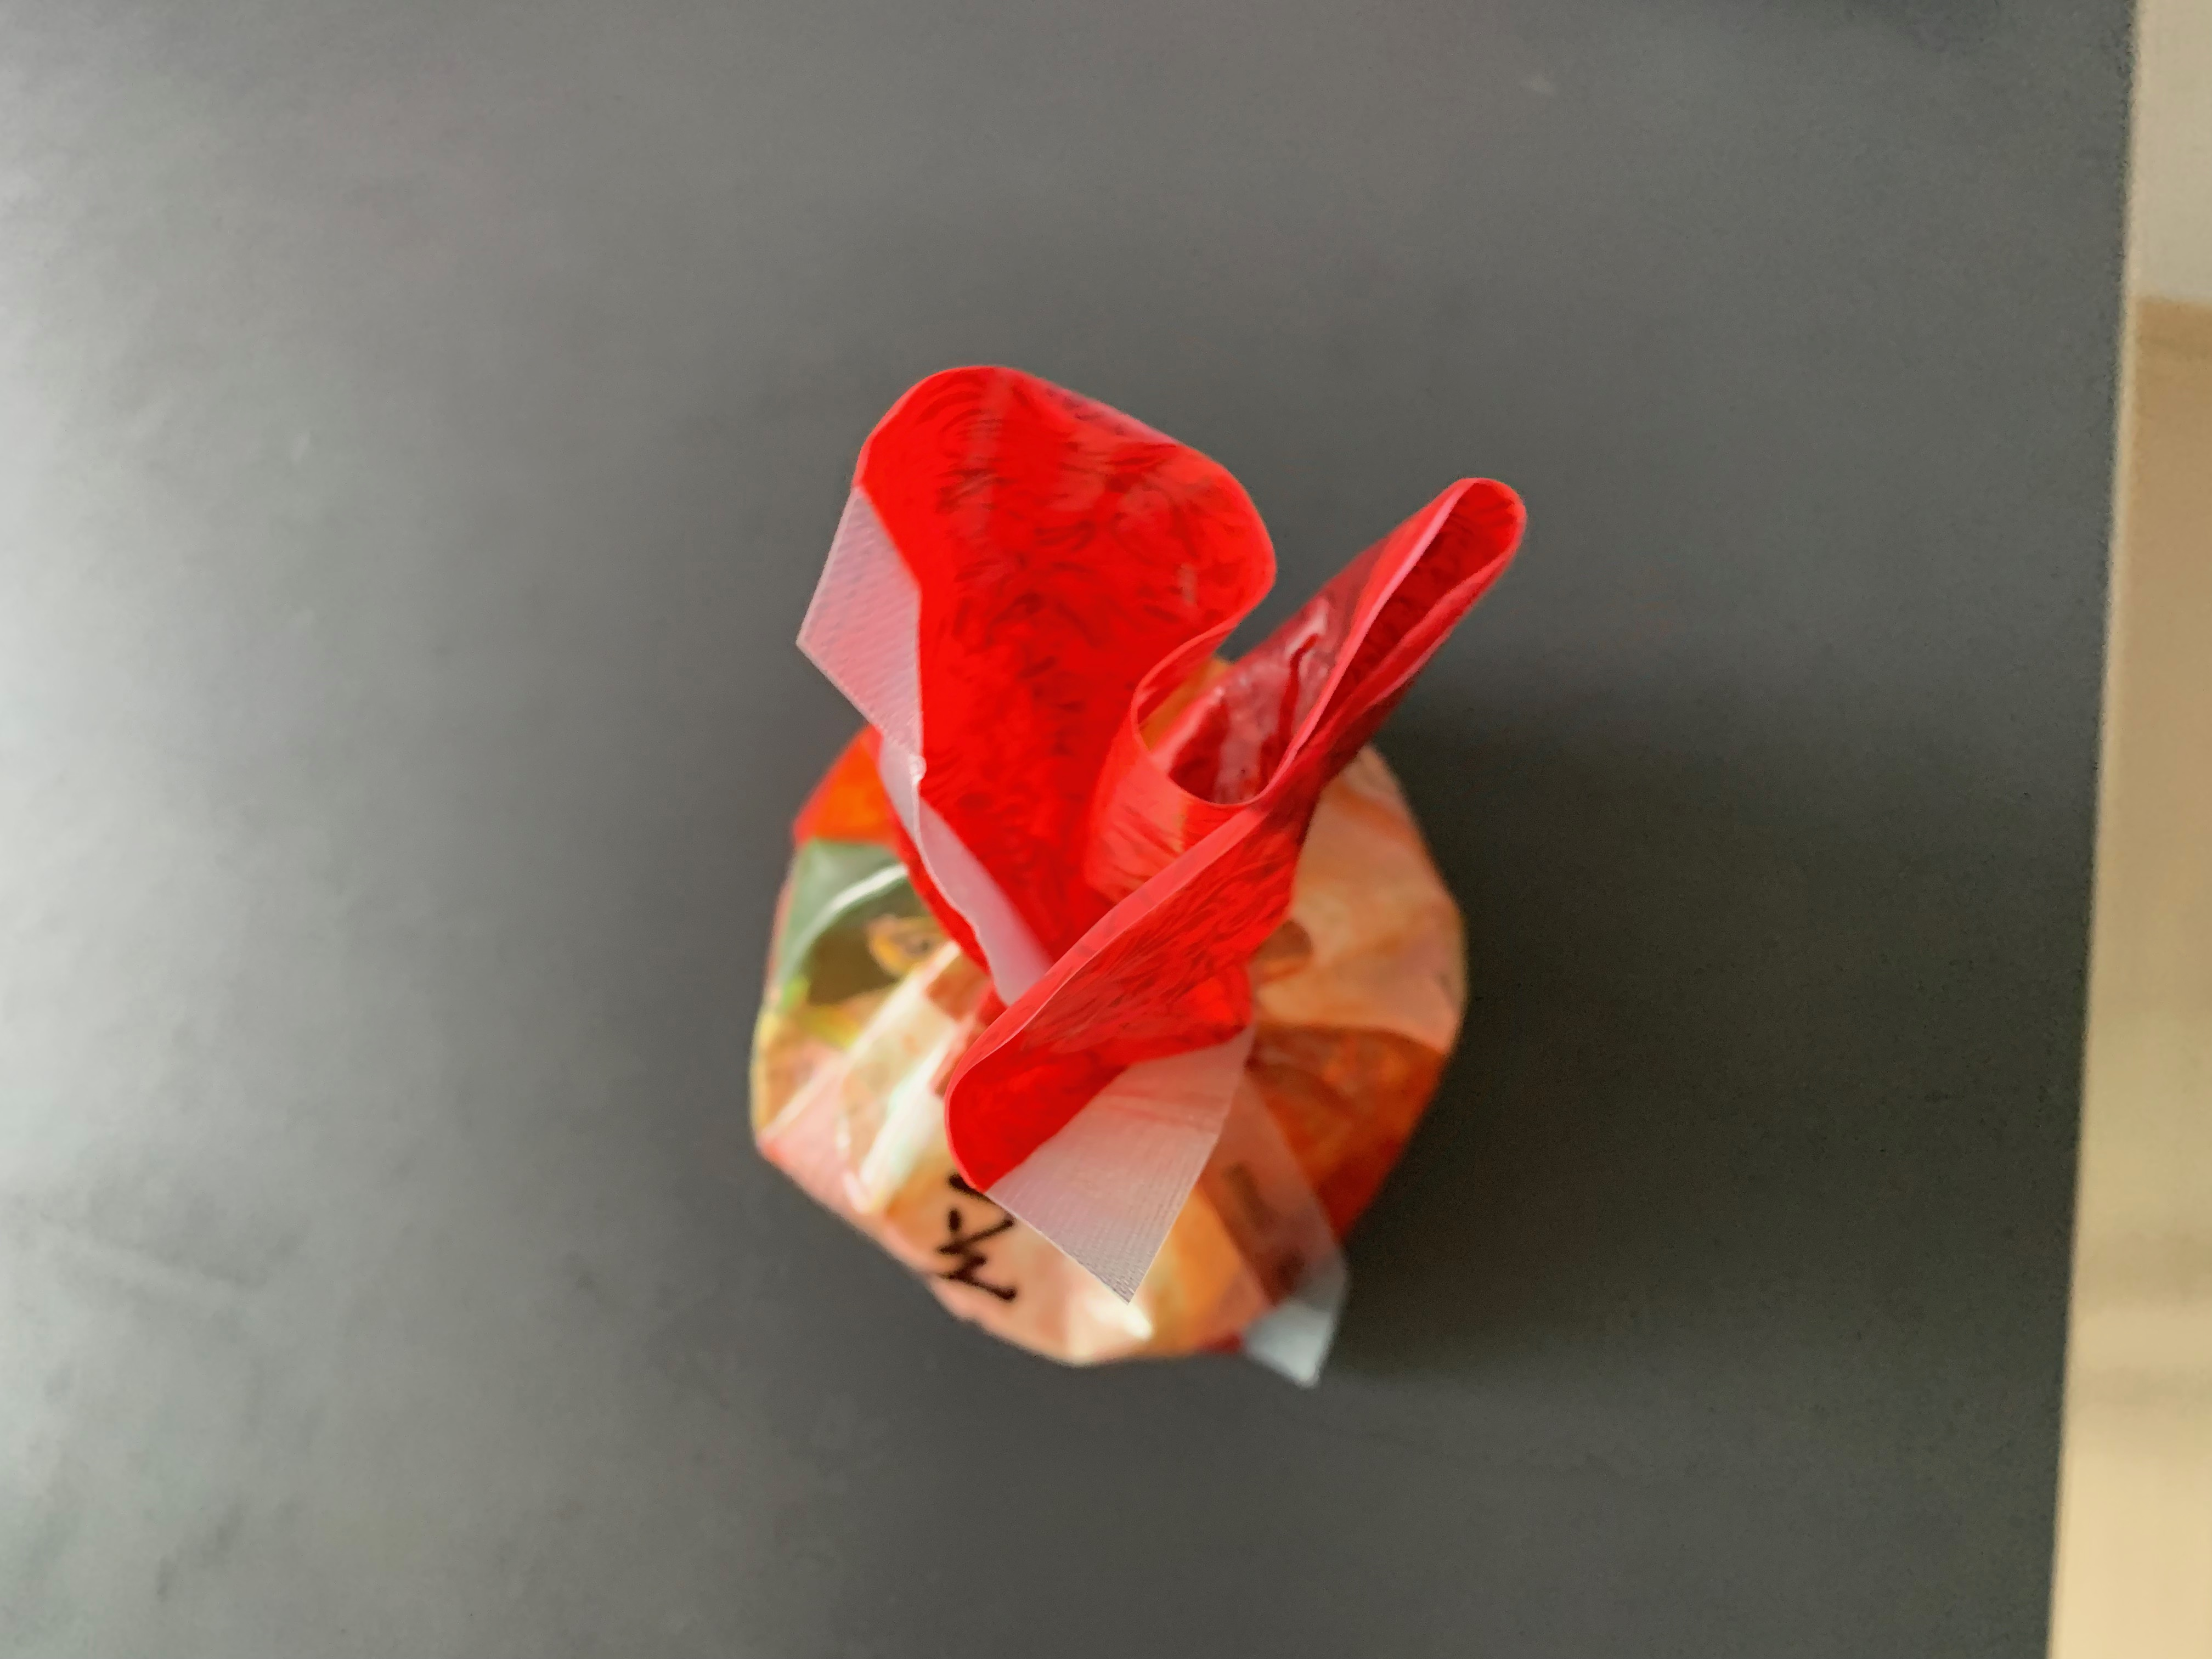kimchi: (751, 366, 1529, 1370)
